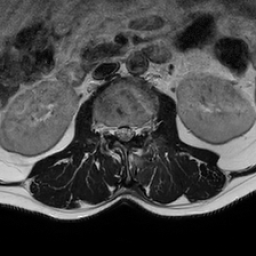CCS_stenosis: (122, 118, 129, 146)
LFS_normal: (136, 121, 142, 140)
LLS_normal: (129, 122, 136, 144)
RFS_normal: (106, 120, 114, 140)
RLS_normal: (114, 121, 122, 141)
